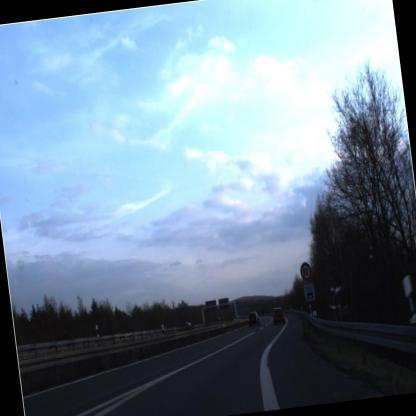prohibitory: (297, 258, 312, 282)
